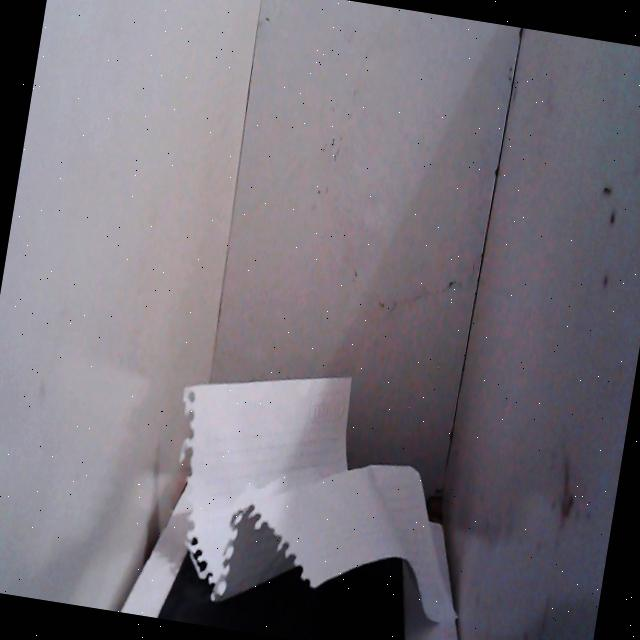papel: (145, 340, 499, 640)
